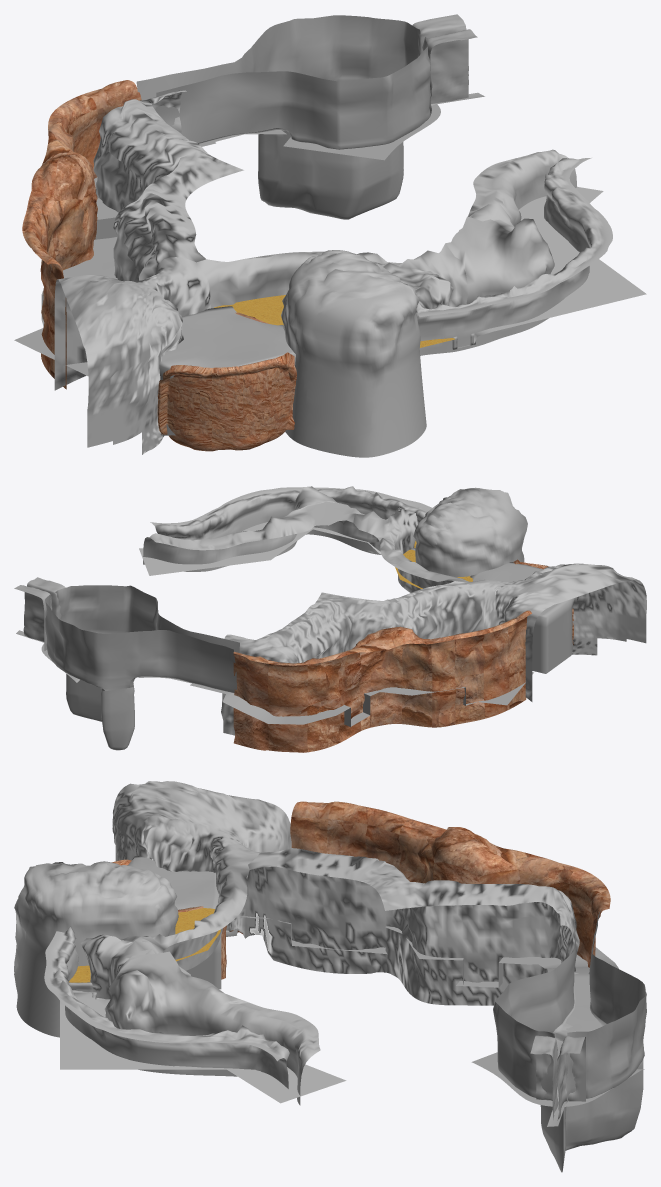
The model's file is env_level01_tutorialV13.fbx.
The picture shows the model from 3 angles, top to bottom: view 1: azimuth 30°, elevation 25°; view 2: azimuth 150°, elevation 25°; view 3: azimuth 270°, elevation 25°; orthographic projection. The views are drawn at different scales.
Visible parts, largest first — view 1: pCube151, polySurface43, polySurface25, polySurface6, pCube152, pCube150, polySurface26, polySurface35, polySurface20, polySurface44, polySurface42, polySurface38 (+8 smaller); view 2: polySurface6, polySurface43, polySurface26, pCube151, polySurface35, polySurface44, pCube150, polySurface25, polySurface42, polySurface38, pCube207, polySurface20 (+4 smaller); view 3: polySurface44, polySurface6, polySurface43, polySurface42, pCube151, polySurface35, pCube150, polySurface26, polySurface25, polySurface38, pCube147, polySurface20 (+6 smaller).
Part boxes in pixels (x1,y1,x2,y2): pCube151: [281, 250, 426, 457]; polySurface43: [54, 257, 218, 454]; polySurface25: [155, 37, 435, 149]; polySurface6: [22, 80, 141, 389]; pCube152: [157, 352, 296, 451]; pCube150: [416, 158, 612, 355]; polySurface26: [136, 15, 420, 100]; polySurface35: [445, 149, 577, 304]; polySurface20: [258, 130, 403, 219]; polySurface44: [113, 151, 243, 282]; polySurface42: [93, 90, 210, 212]; polySurface38: [207, 243, 467, 309]; polySurface6: [233, 610, 531, 752]; polySurface43: [455, 563, 646, 701]; polySurface26: [45, 593, 236, 692]; pCube151: [413, 487, 527, 577]; polySurface35: [143, 486, 367, 571]; polySurface44: [314, 581, 483, 648]; pCube150: [150, 486, 431, 539]; polySurface25: [55, 585, 239, 652]; polySurface42: [221, 600, 352, 735]; polySurface38: [353, 507, 459, 592]; pCube207: [470, 562, 574, 673]; polySurface20: [66, 674, 134, 750]; polySurface44: [248, 848, 427, 1002]; polySurface6: [290, 801, 610, 967]; polySurface43: [112, 781, 291, 952]; polySurface42: [422, 880, 579, 1005]; pCube151: [14, 861, 178, 1037]; polySurface35: [104, 949, 320, 1105]; pCube150: [44, 926, 289, 1088]; polySurface26: [565, 911, 646, 1103]; polySurface25: [493, 916, 576, 1100]; polySurface38: [81, 870, 249, 999]; pCube147: [60, 992, 346, 1103]; polySurface20: [540, 1060, 643, 1172].
Size of the model in its own units: 20858 by 5904 by 19294.
